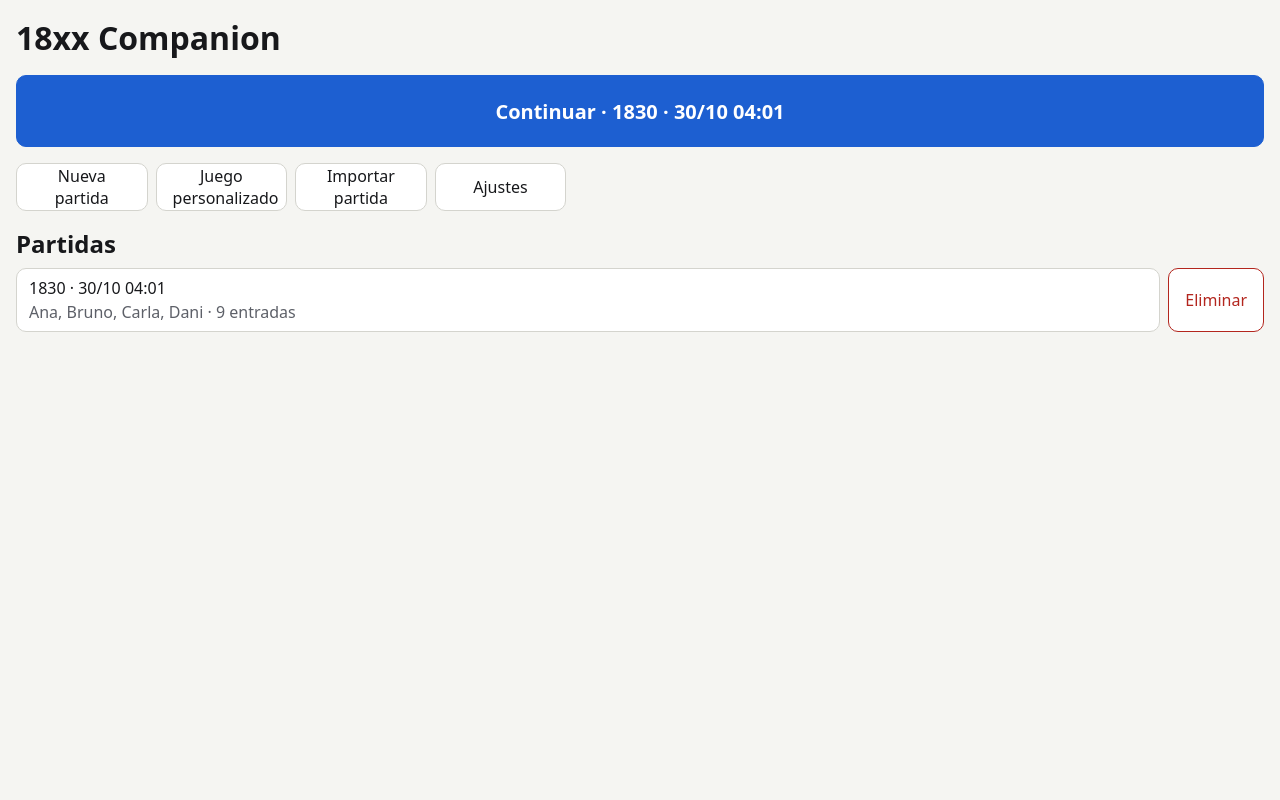
Test: train correction view (US3) › is reachable from the trains line in the operating sheet
What coordinates should you click on to do the following:
click the button "Continuar · 1830 · 30/10 04:01"
I would click on:
 (640, 111)
Its box is [16,75,1264,147].
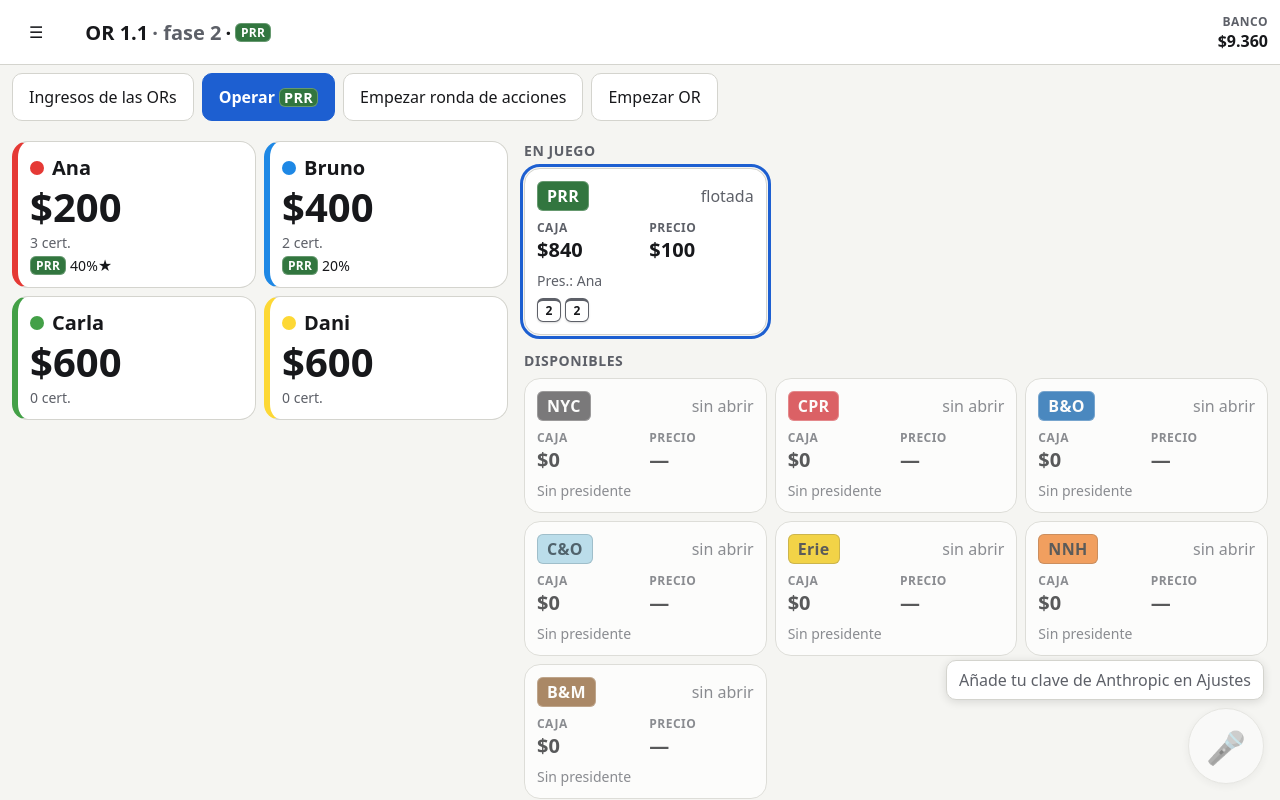
Result: the button named "Menú" is shown at [12,8,60,56]
What coordinates should you click on to do the following:
click the button with test id "treasury-PRR"
I would click on:
 (645, 252)
Its box is [524,168,767,335].
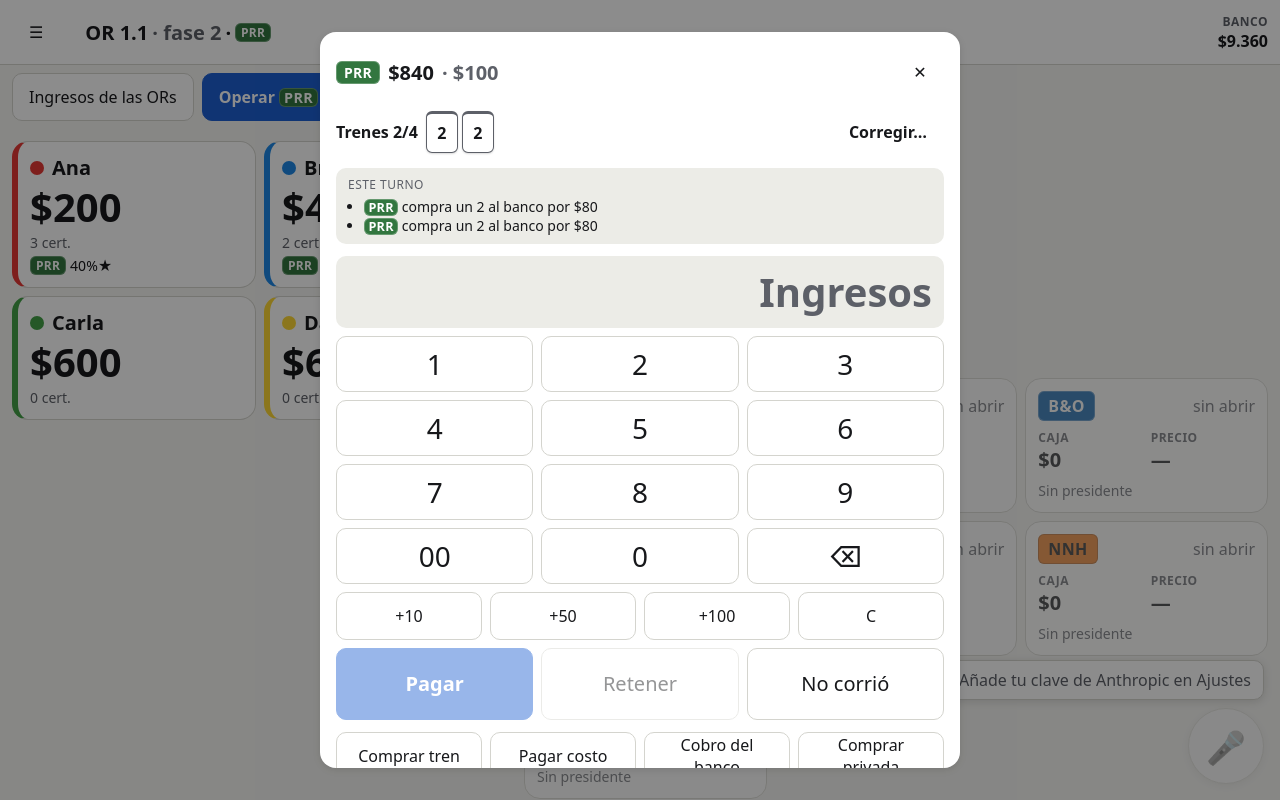
What coordinates should you click on to do the following:
click the button "Corregir…"
I would click on:
 (888, 132)
Its box is [832,108,944,156].
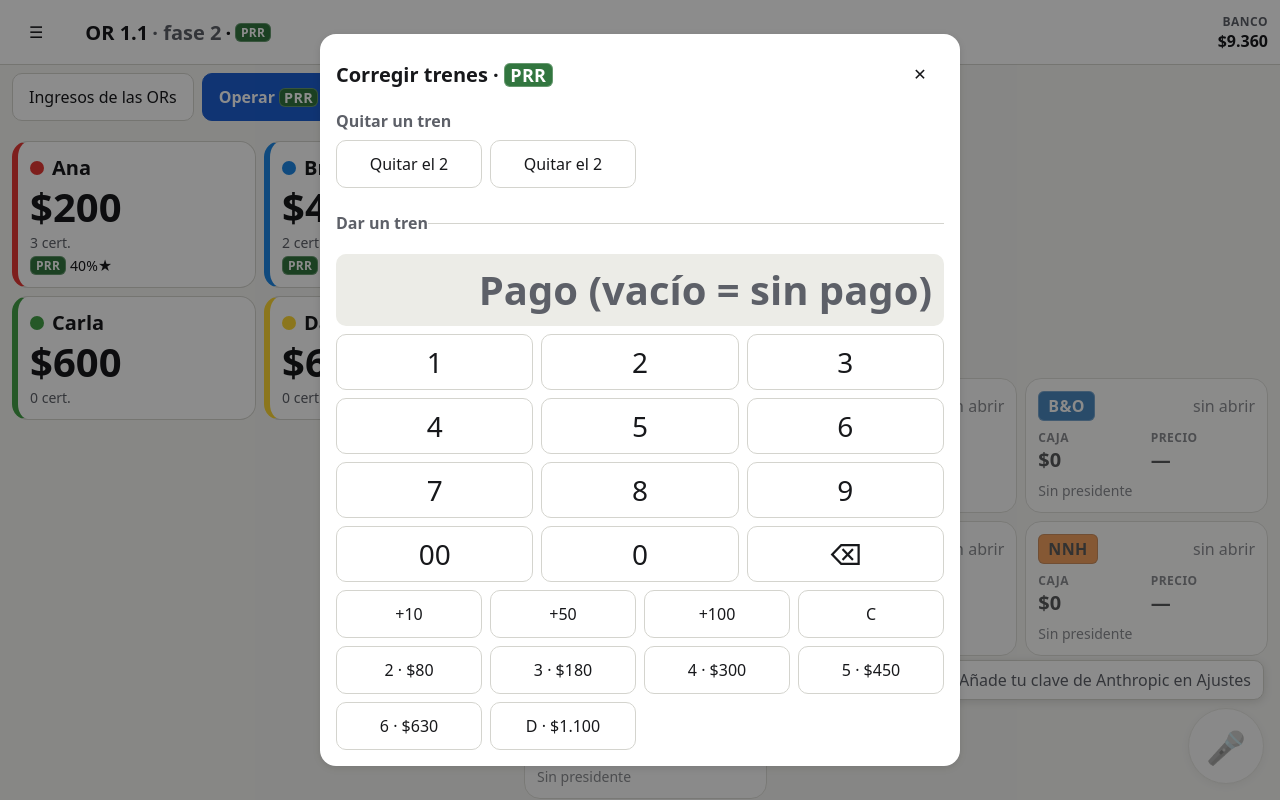
Result: the dialog "Corregir trenes · PRR" is shown at [320,34,960,766]
